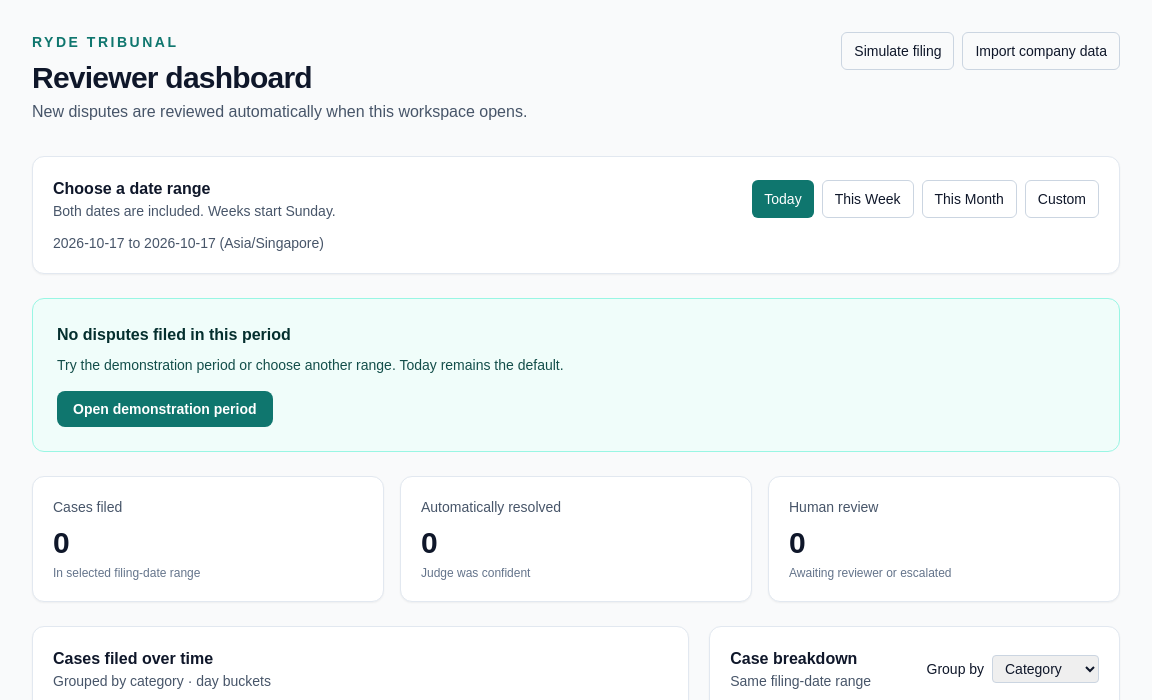
Test: reviewer dashboard › shows the empty-period state with an accessible demonstration button and updates the date range on click
What coordinates should you click on to do the following:
click the button with test id "demo-period-button"
I would click on:
 (165, 409)
Its box is [57,391,273,427].
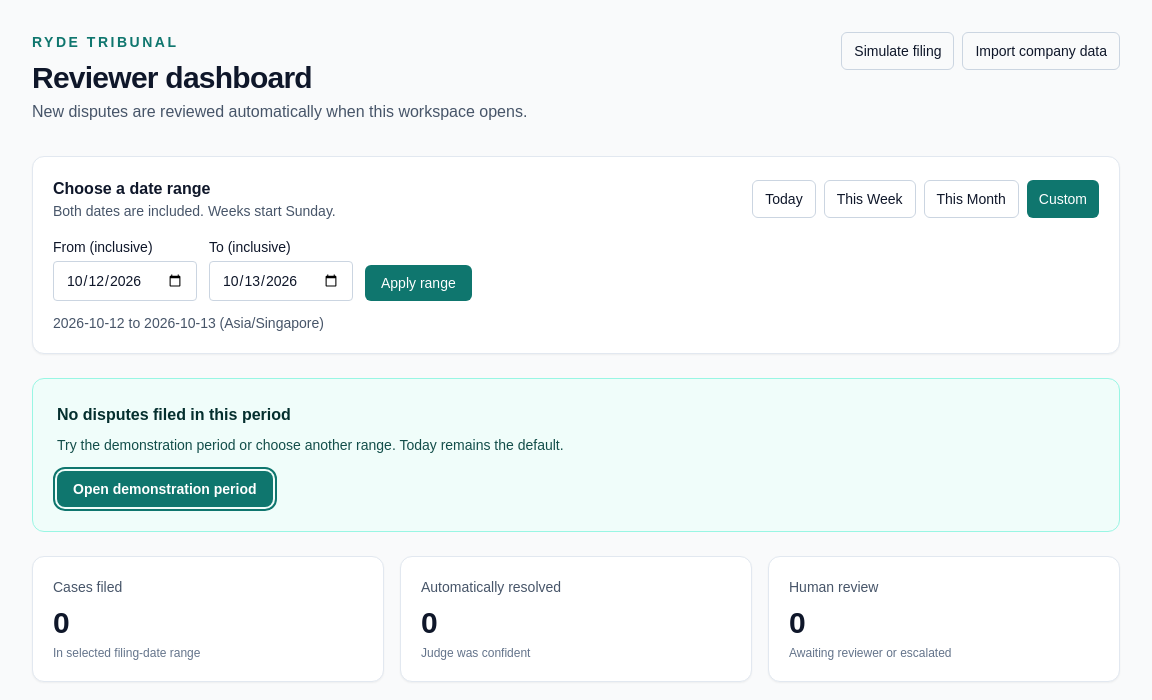
Expected: the text "2026-10-12 to 2026-10-13 (Asia/Singapore)" is shown, [53,315,324,331]
Expected: the date field named "Custom range start" holds "2026-10-12", [53,261,197,301]
Expected: the date field named "Custom range end" holds "2026-10-13", [209,261,353,301]
